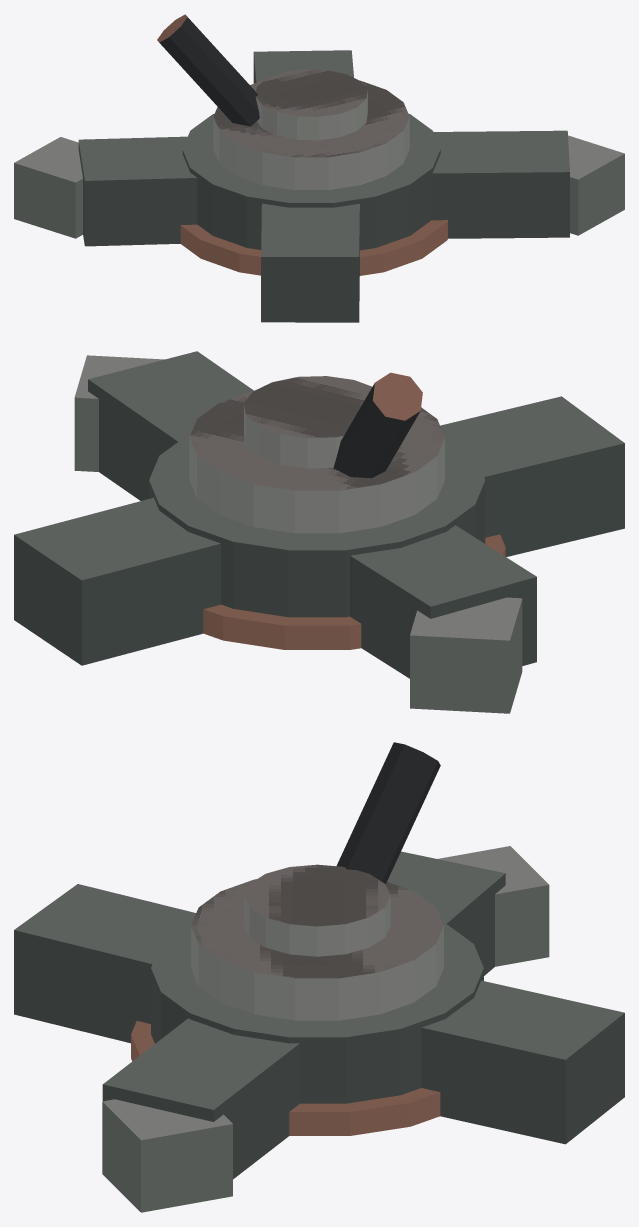
The model's file is Building_AncientWarwalkerFoot.glb.
The picture shows the model from 3 angles, top to bottom: view 1: azimuth 30°, elevation 25°; view 2: azimuth 150°, elevation 25°; view 3: azimuth 270°, elevation 25°; orthographic projection. The views are drawn at different scales.
Parts seen in each view (by area): view 1: AncientWarwalkerFoot; view 2: AncientWarwalkerFoot; view 3: AncientWarwalkerFoot.
Part boxes in pixels (<box>): AncientWarwalkerFoot: <box>14,14,624,322</box>; AncientWarwalkerFoot: <box>14,351,624,713</box>; AncientWarwalkerFoot: <box>14,742,624,1212</box>.
Bounding box in the file's own units: 2.09 × 0.8532 × 1.84.
Materials: 1 (1 with a texture image).
